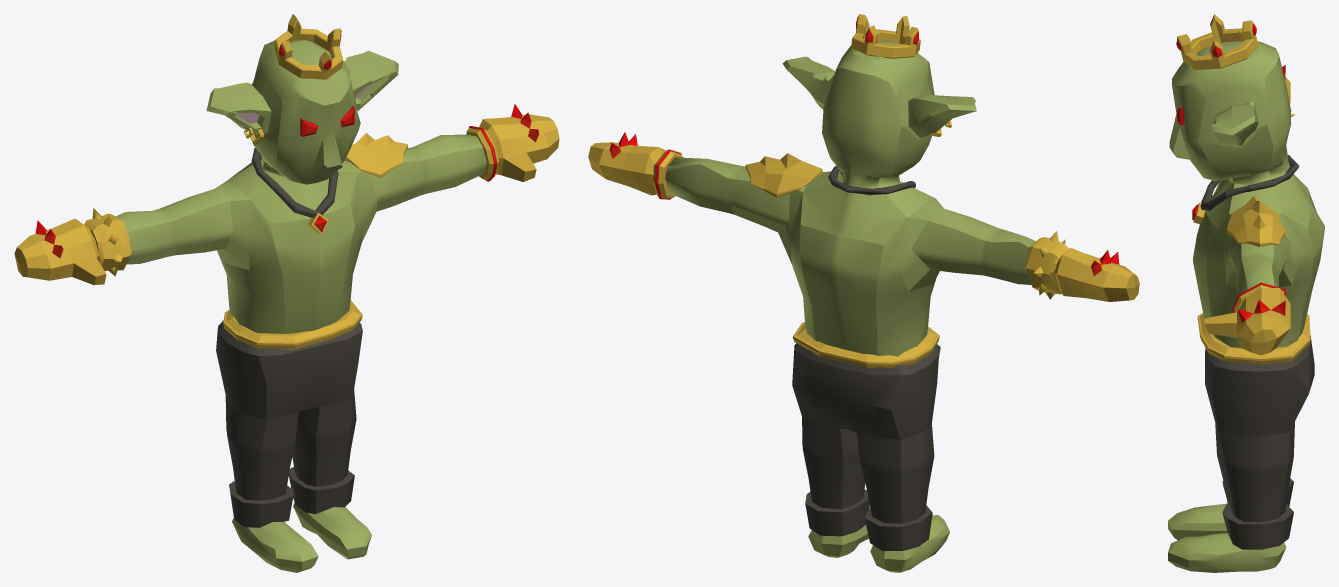
Rendered from NEWboss.fbx.
The picture shows the model from 3 angles, left to right: view 1: azimuth 30°, elevation 25°; view 2: azimuth 150°, elevation 25°; view 3: azimuth 270°, elevation 25°; orthographic projection.
Visible parts, largest first — view 1: boss_body, pants, gauntlets, feet, crown, belt, wristGuard, shoulderGuard, chain, otherWrist; view 2: boss_body, pants, gauntlets, feet, belt, shoulderGuard, crown, wristGuard, chain, otherWrist; view 3: boss_body, pants, feet, gauntlets, crown, shoulderGuard, belt, chain, otherWrist.
Boxes of the visible parts, left/top/right/bottom form: boss_body: left=116, top=40, right=486, bottom=333; pants: left=216, top=320, right=362, bottom=527; gauntlets: left=14, top=104, right=559, bottom=285; feet: left=232, top=503, right=371, bottom=572; crown: left=274, top=14, right=343, bottom=79; belt: left=223, top=300, right=362, bottom=349; wristGuard: left=84, top=208, right=131, bottom=276; shoulderGuard: left=344, top=133, right=407, bottom=177; chain: left=251, top=148, right=338, bottom=217; otherWrist: left=466, top=126, right=499, bottom=181; boss_body: left=665, top=40, right=1035, bottom=356; pants: left=792, top=343, right=940, bottom=550; gauntlets: left=588, top=132, right=1139, bottom=301; feet: left=808, top=505, right=949, bottom=572; belt: left=793, top=322, right=939, bottom=368; shoulderGuard: left=745, top=153, right=822, bottom=197; crown: left=851, top=14, right=920, bottom=58; wristGuard: left=1025, top=231, right=1069, bottom=299; chain: left=828, top=166, right=915, bottom=195; otherWrist: left=653, top=149, right=683, bottom=199; boss_body: left=1169, top=41, right=1324, bottom=347; pants: left=1205, top=335, right=1314, bottom=549; feet: left=1168, top=503, right=1286, bottom=572; gauntlets: left=1204, top=65, right=1290, bottom=355; crown: left=1176, top=14, right=1258, bottom=69; shoulderGuard: left=1226, top=196, right=1285, bottom=246; belt: left=1197, top=313, right=1310, bottom=364; chain: left=1200, top=155, right=1299, bottom=210; otherWrist: left=1232, top=282, right=1286, bottom=312.
Size of the model in its own units: 247 by 231 by 62.01.
